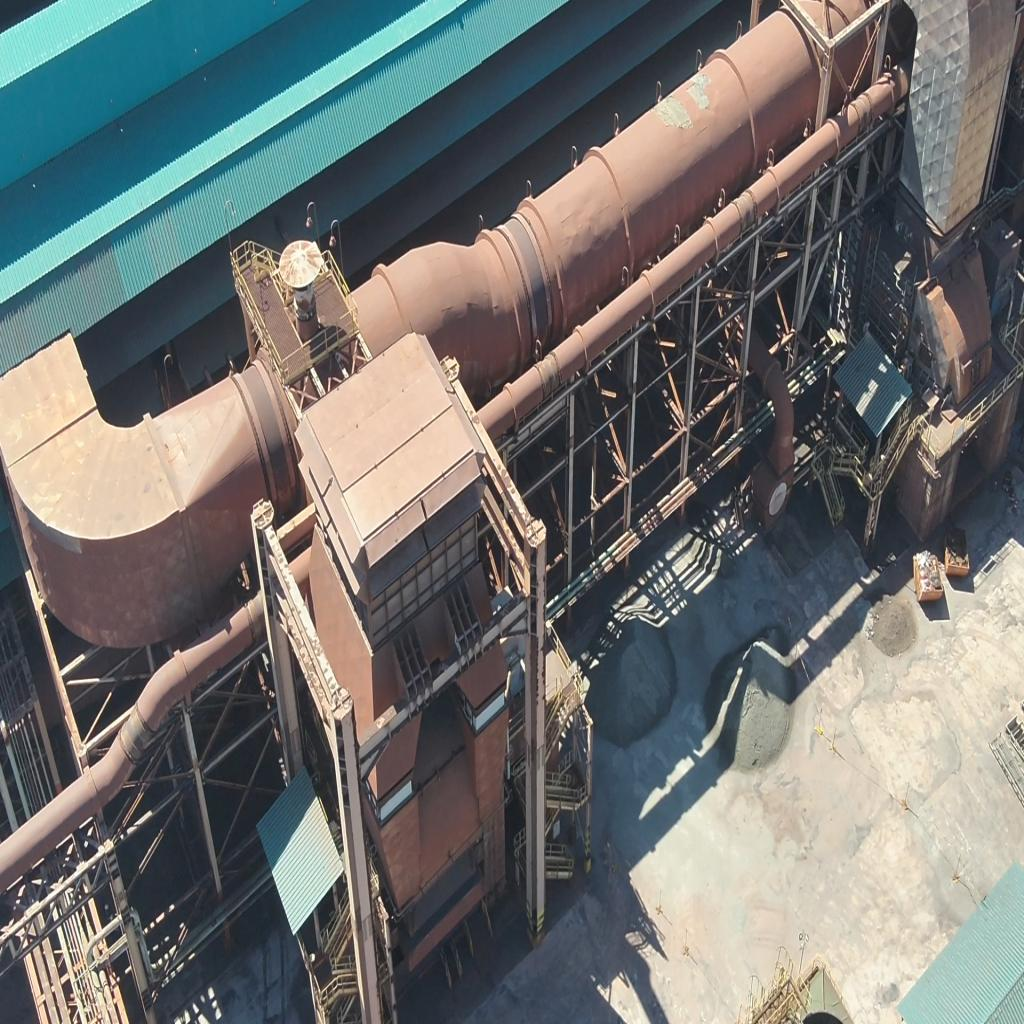Failures: (654, 96, 690, 130), (690, 76, 707, 111)
